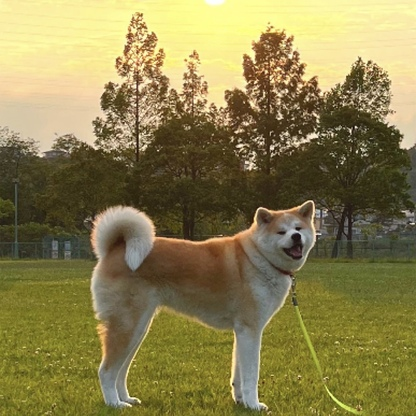akita: (86, 198, 318, 414)
